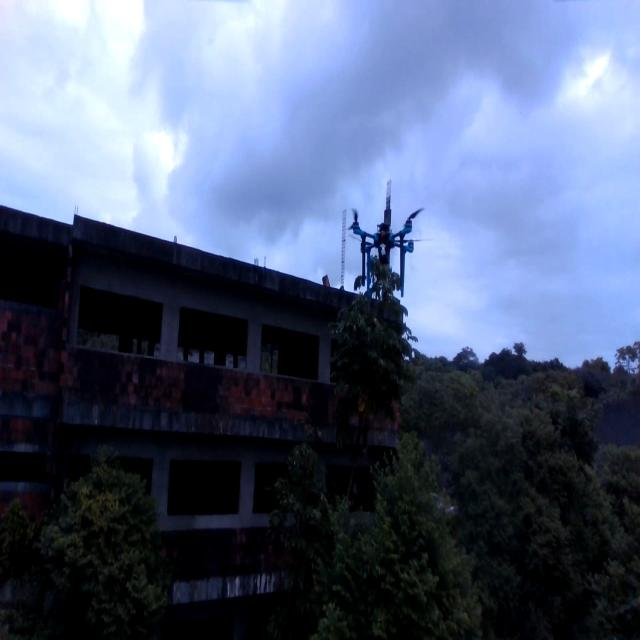-uav-: (334, 174, 425, 296)
